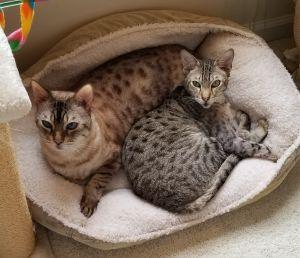bengal: (26, 76, 104, 161)
